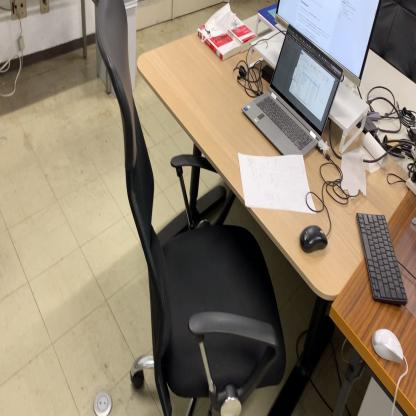chair: (95, 1, 288, 415)
